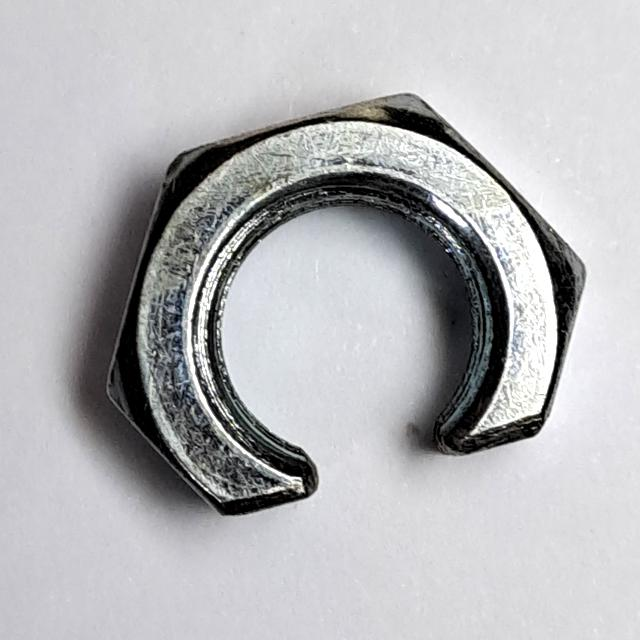Fracture: (96, 79, 597, 533)
